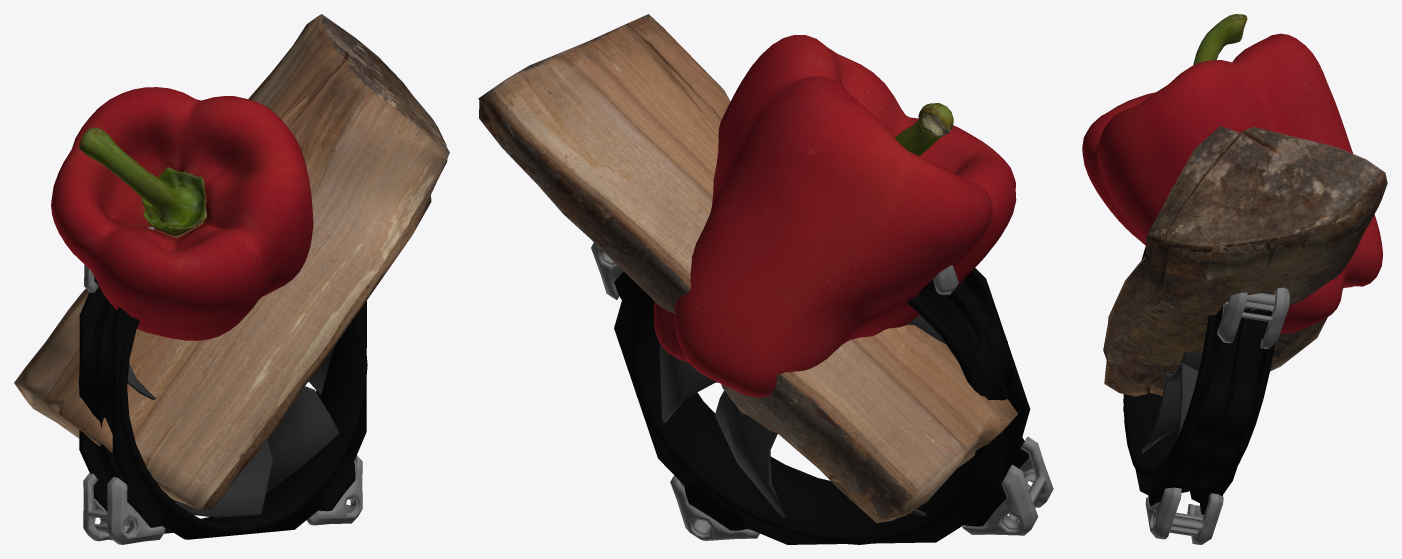
3 views of the same model, side by side, from view 1: azimuth 30°, elevation 25°; view 2: azimuth 150°, elevation 25°; view 3: azimuth 270°, elevation 25° (orthographic). The views are drawn at different scales.
Parts seen in each view (by area): view 1: GLTF_v2; view 2: GLTF_v2; view 3: GLTF_v2.
Boxes of the visible parts, x1=… form: GLTF_v2: x1=14, y1=14, x2=449, y2=544; GLTF_v2: x1=478, y1=14, x2=1053, y2=544; GLTF_v2: x1=1082, y1=14, x2=1387, y2=544.
Bounding box in the file's own units: 0.5178 × 0.5599 × 0.3539.
5 materials, 2 textured.
